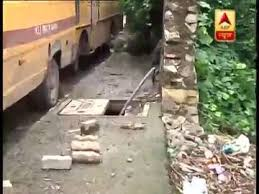Manhole-Open: (74, 91, 150, 127)
